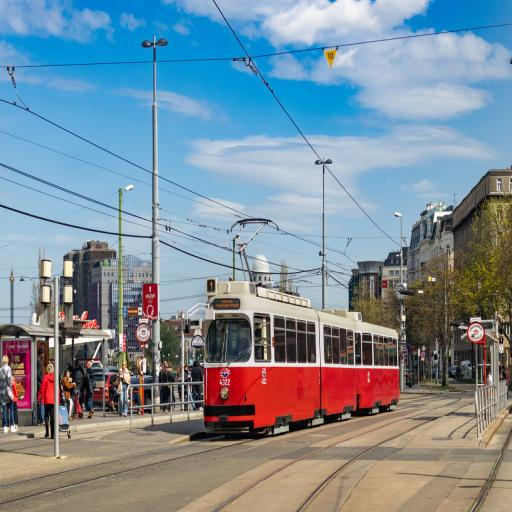E2-Tram: (202, 276, 399, 430)
